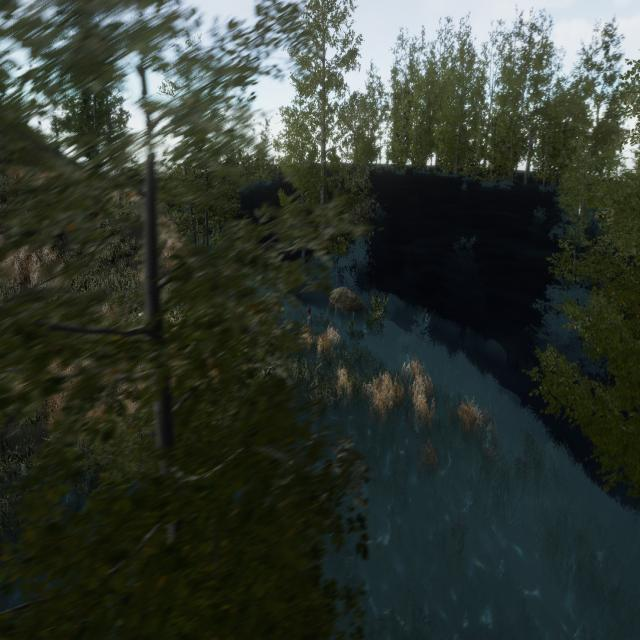Human: (299, 295, 316, 345)
